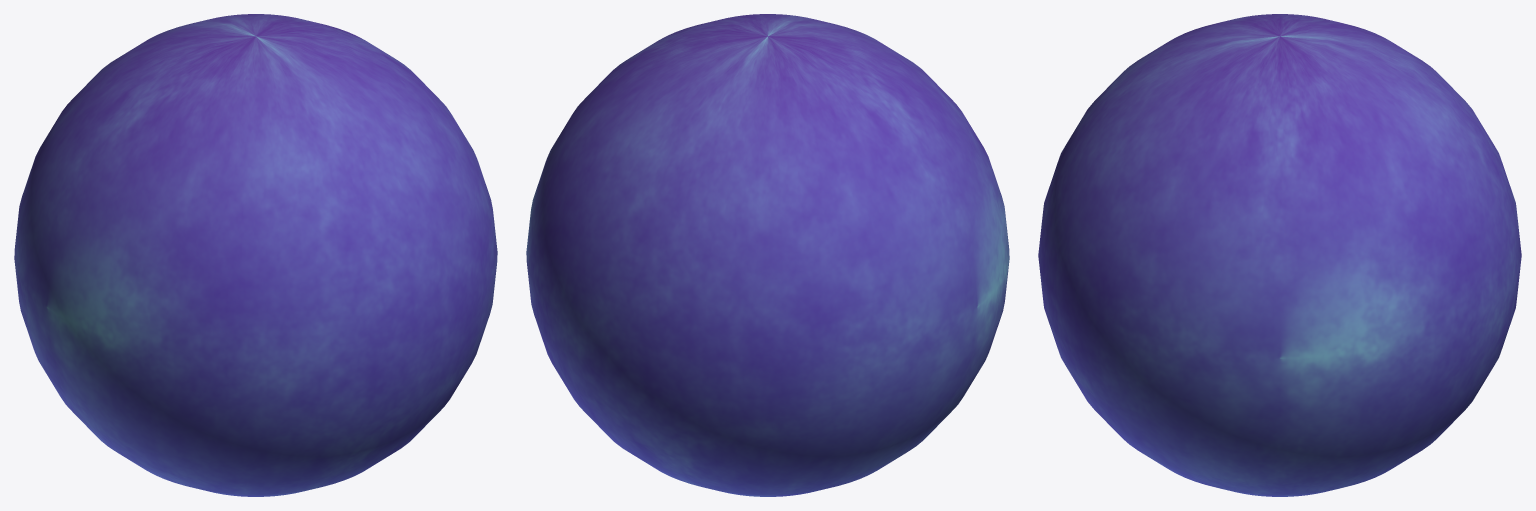
File: AL4_Skydome.obj
3 renders of one model, left to right at view 1: azimuth 30°, elevation 25°; view 2: azimuth 150°, elevation 25°; view 3: azimuth 270°, elevation 25°, orthographic.
Parts seen in each view (by area): view 1: 球; view 2: 球; view 3: 球.
Part boxes in pixels (x1,y1,x2,y2): 球: (14,14,497,496); 球: (526,14,1009,496); 球: (1038,14,1521,496).
Bounding box in the file's own units: 200 × 200 × 200.
Materials: 1 (1 with a texture image).
